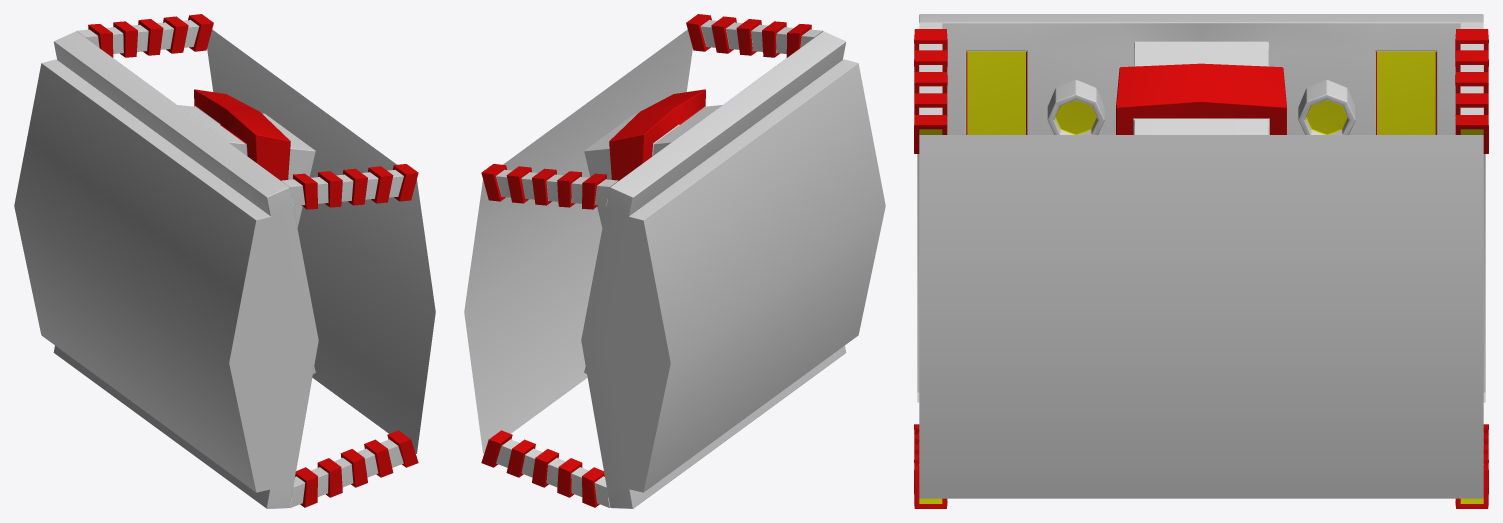
The model's file is SM_TVProjector.fbx.
3 views of the same model, side by side, from view 1: azimuth 30°, elevation 25°; view 2: azimuth 150°, elevation 25°; view 3: azimuth 270°, elevation 25° (orthographic). The views are drawn at different scales.
Visible parts, largest first — view 1: tv_screen.001, screen, tv_screen, tv_screen.002; view 2: tv_screen.001, screen, tv_screen, tv_screen.002; view 3: screen, tv_screen, tv_screen.002, tv_screen.001.
Boxes of the visible parts, x1,y1,x2,y2 form: tv_screen.001: [14, 59, 296, 492]; screen: [207, 29, 435, 453]; tv_screen: [53, 31, 318, 508]; tv_screen.002: [76, 14, 418, 507]; tv_screen.001: [603, 59, 885, 492]; screen: [464, 29, 692, 453]; tv_screen: [581, 31, 846, 508]; tv_screen.002: [481, 14, 823, 507]; screen: [919, 135, 1483, 498]; tv_screen: [919, 14, 1483, 134]; tv_screen.002: [914, 22, 1488, 508]; tv_screen.001: [917, 154, 1485, 402].
Bounding box in the file's own units: 112 × 204 × 168.
